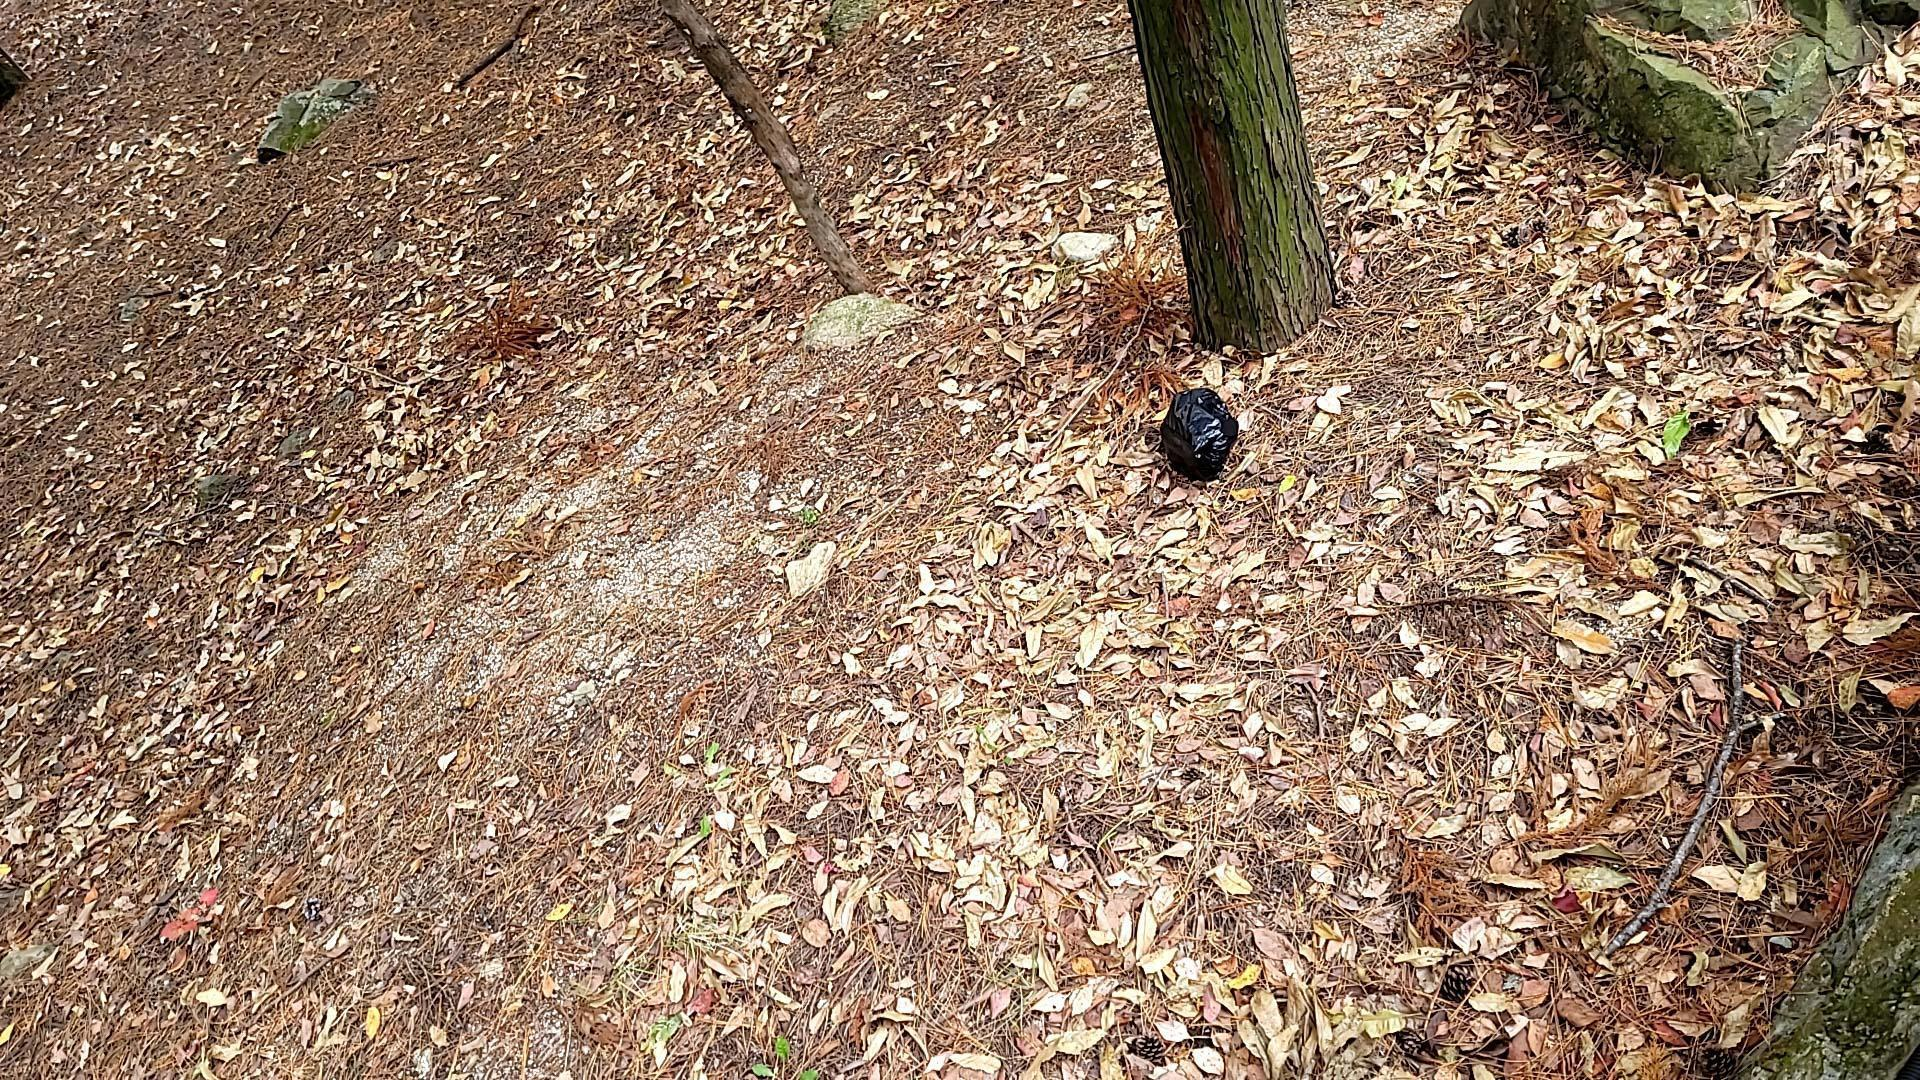black_bag: (1153, 382, 1242, 489)
